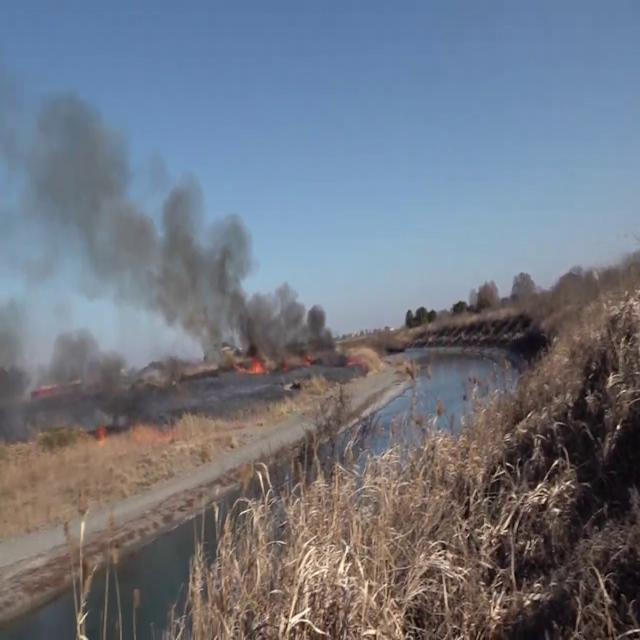Smoke: (1, 79, 337, 389)
